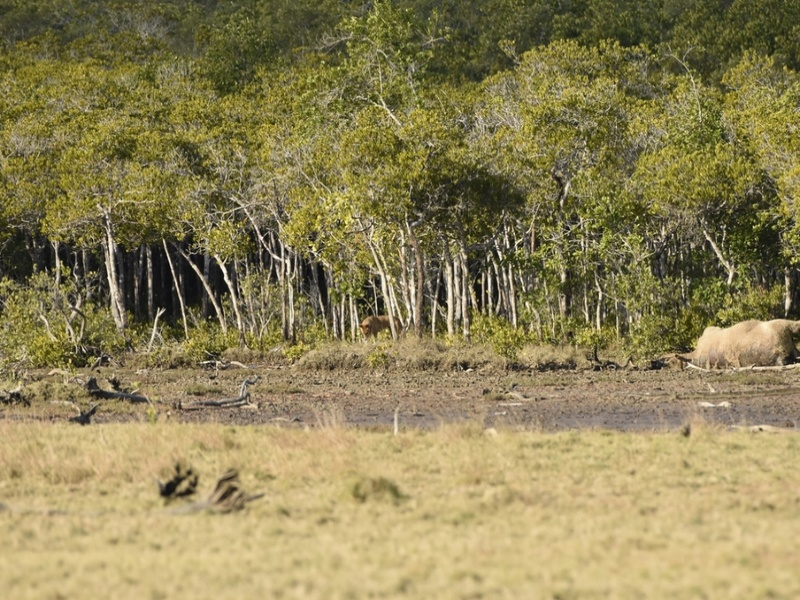dog: (354, 311, 394, 343)
